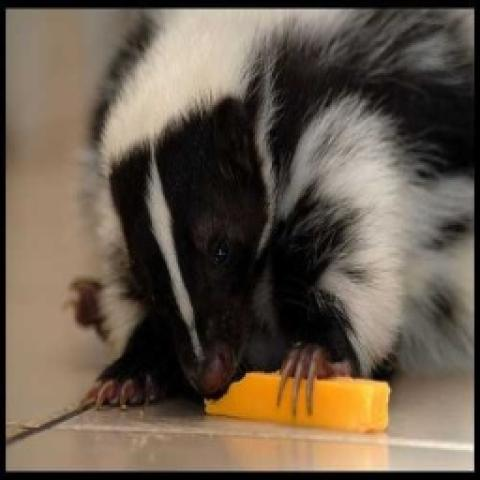small_animal: (66, 8, 472, 416)
